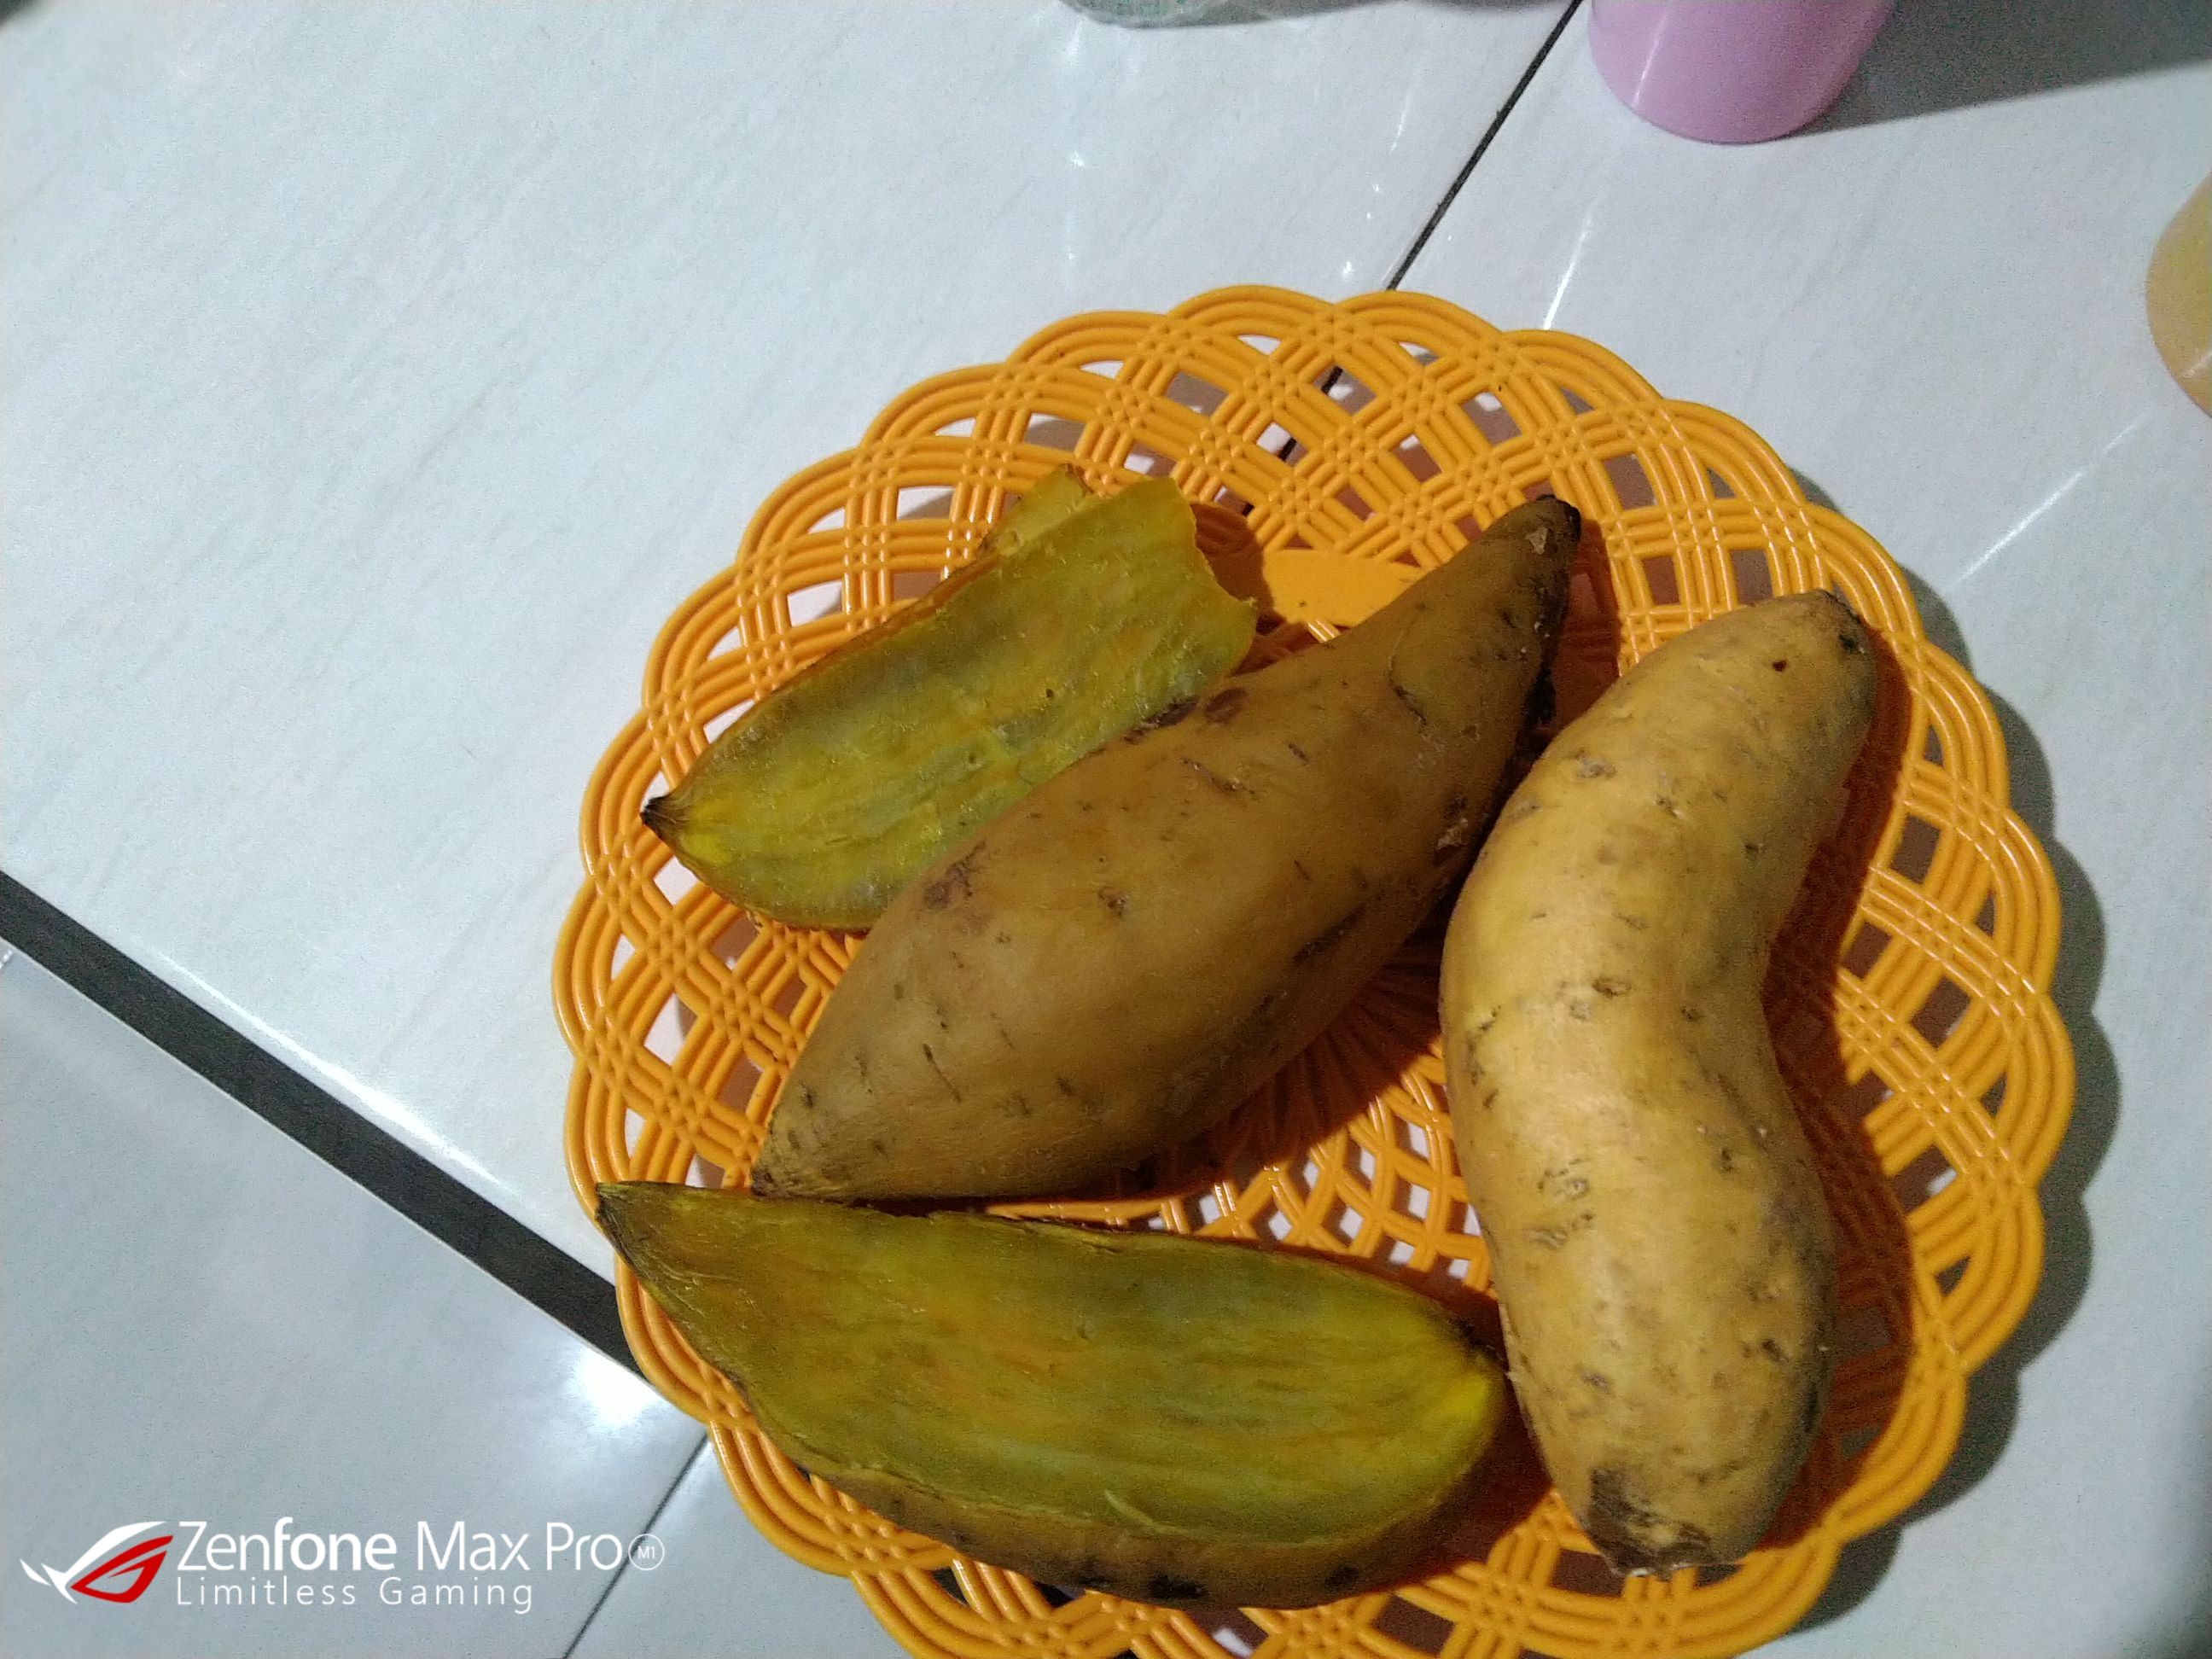ubi cilembu: (732, 486, 1578, 1201), (1430, 575, 1958, 1565), (564, 1168, 1494, 1596), (620, 455, 1273, 910)
